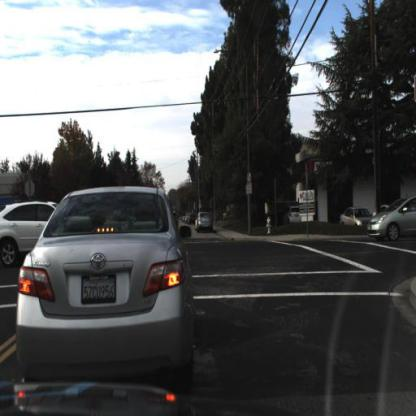car: (17, 187, 196, 390), (2, 201, 64, 274), (369, 197, 416, 244), (340, 204, 375, 230), (282, 201, 307, 229), (194, 208, 216, 237)
